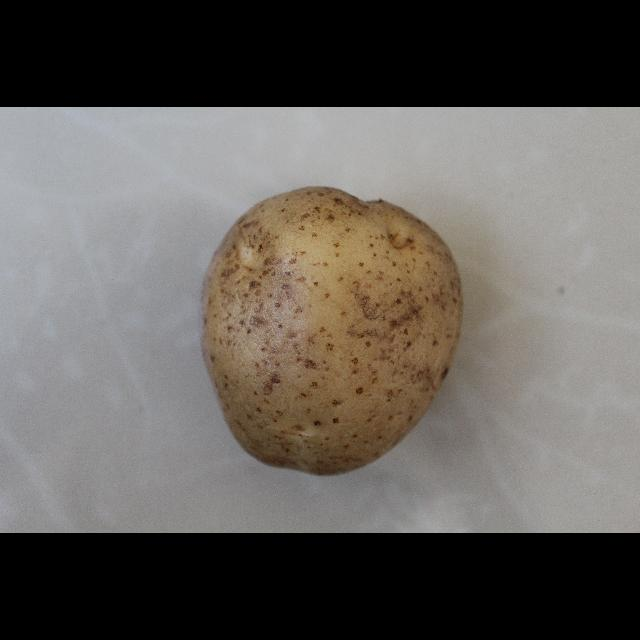Diseased-fungal potato: (191, 180, 467, 480)
